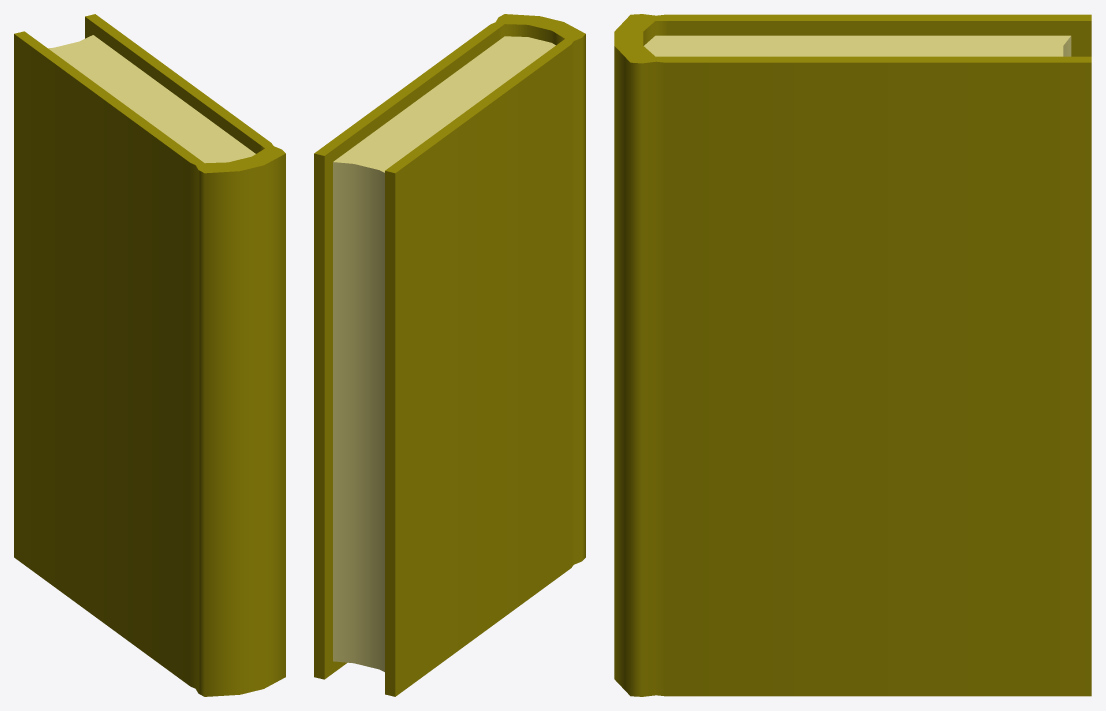
The model's file is book_yellow.fbx.
3 renders of one model, left to right at view 1: azimuth 30°, elevation 25°; view 2: azimuth 150°, elevation 25°; view 3: azimuth 270°, elevation 25°, orthographic. The views are drawn at different scales.
Parts seen in each view (by area): view 1: Book_Small_Green; view 2: Book_Small_Green; view 3: Book_Small_Green.
Boxes of the visible parts, bbox=[...] form: Book_Small_Green: bbox=[14, 14, 285, 696]; Book_Small_Green: bbox=[314, 14, 585, 696]; Book_Small_Green: bbox=[614, 14, 1091, 696].
Size of the model in its own units: 6.3 by 37.64 by 25.69.
